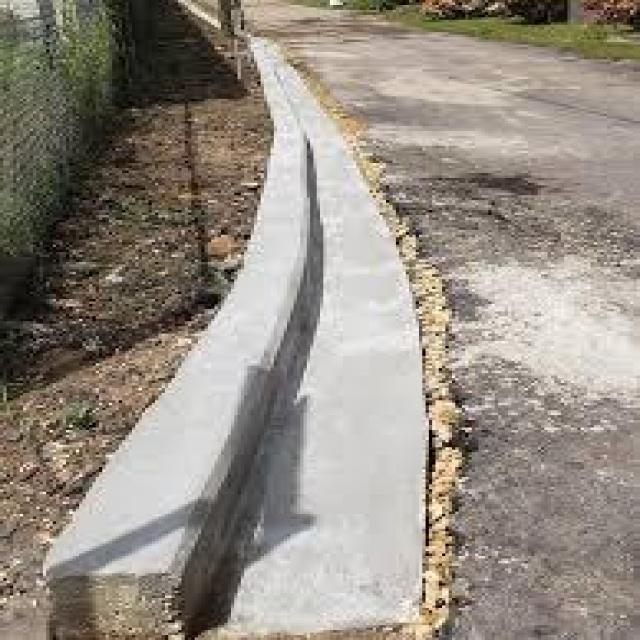bump: (78, 281, 326, 612)
